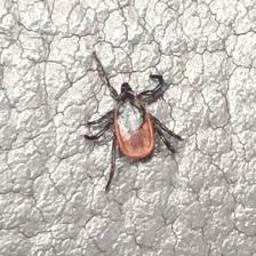Ixodes scapularis: (84, 53, 183, 189)
